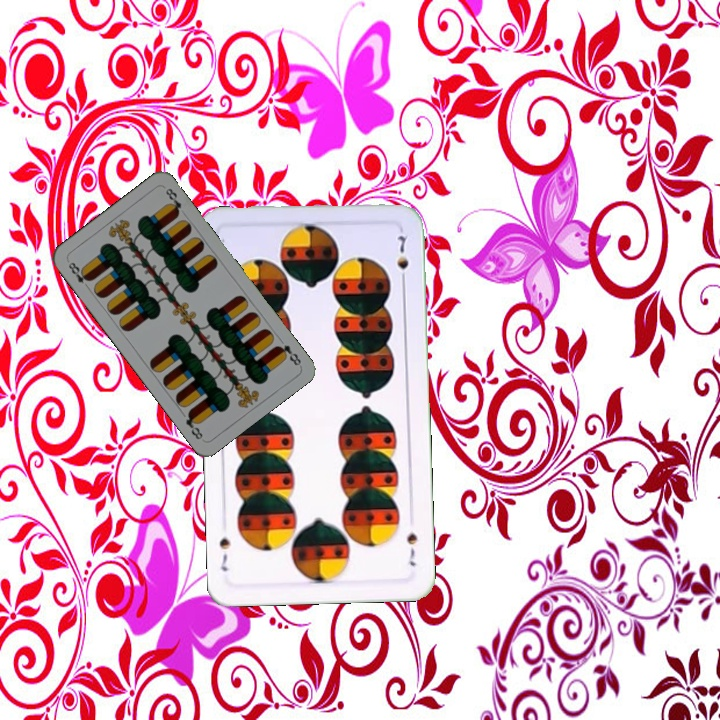E8: (64, 258, 94, 292), (272, 340, 304, 368)
S7: (403, 529, 420, 569)
